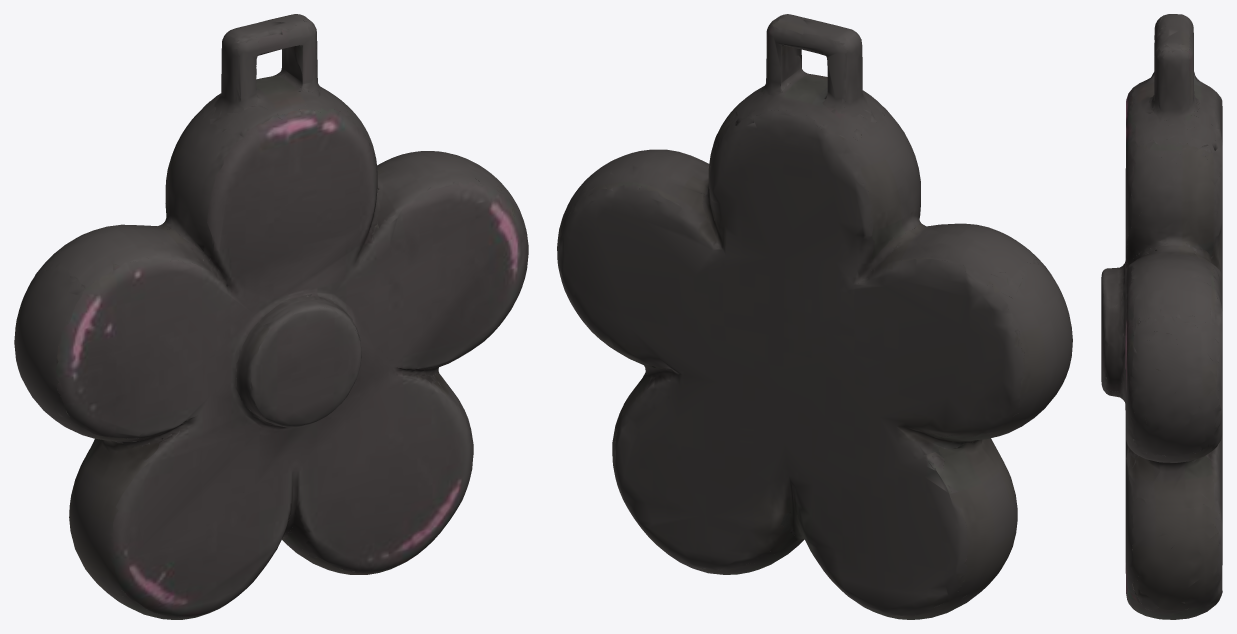
The model's file is piece_charm_flower.glb.
3 renders of one model, left to right at view 1: azimuth 30°, elevation 25°; view 2: azimuth 150°, elevation 25°; view 3: azimuth 270°, elevation 25°, orthographic. The views are drawn at different scales.
Parts seen in each view (by area): view 1: trait_charm_flower; view 2: trait_charm_flower; view 3: trait_charm_flower.
Part boxes in pixels (bbox=[...]): trait_charm_flower: bbox=[14, 14, 528, 619]; trait_charm_flower: bbox=[557, 14, 1072, 619]; trait_charm_flower: bbox=[1101, 14, 1222, 619].
Size of the model in its own units: 0.1571 by 0.172 by 0.0351.
1 material, 1 textured.
